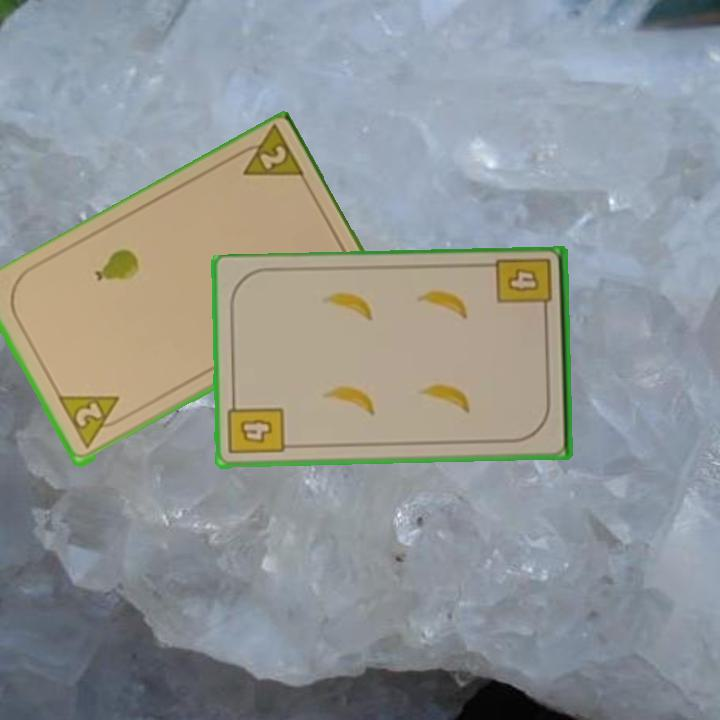2p: (228, 124, 309, 184), (55, 392, 130, 452)
4b: (493, 255, 555, 320), (225, 395, 287, 457)
